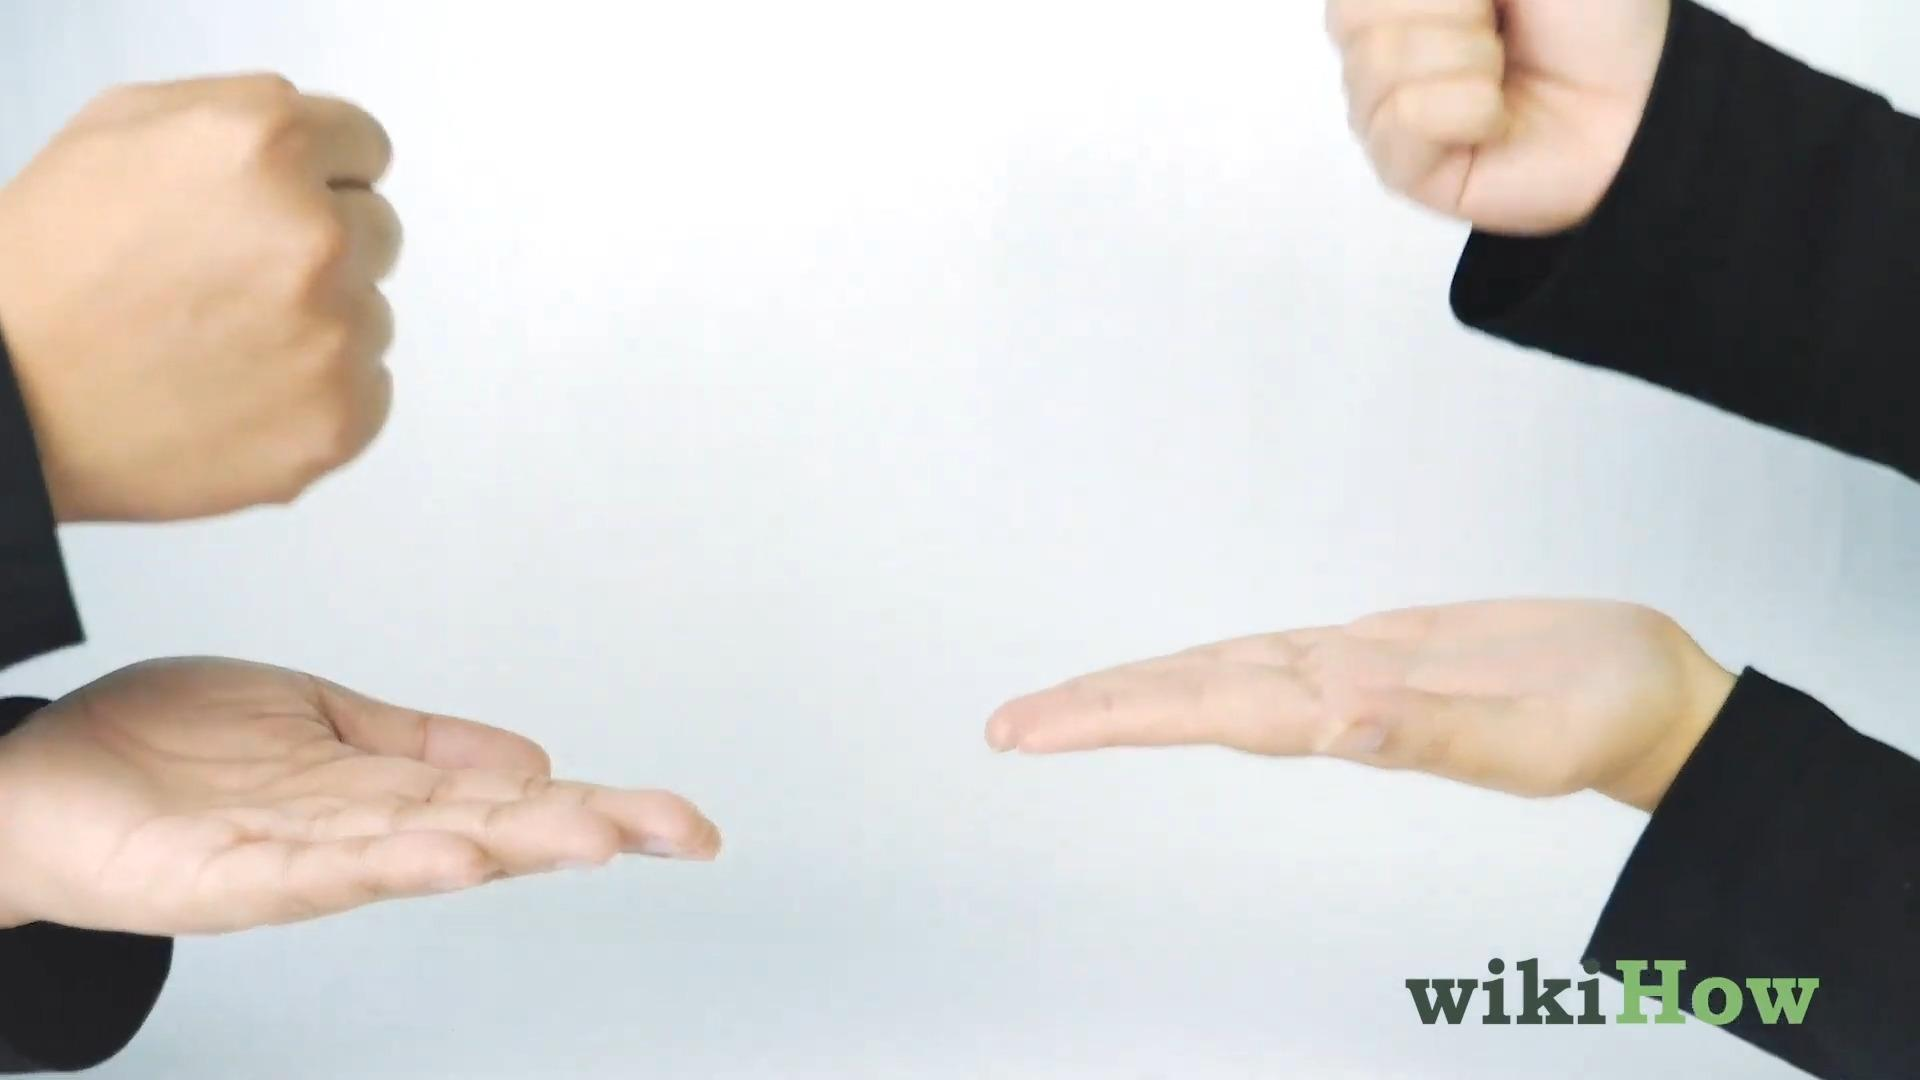Rock: (0, 65, 404, 530), (1323, 0, 1662, 231)
